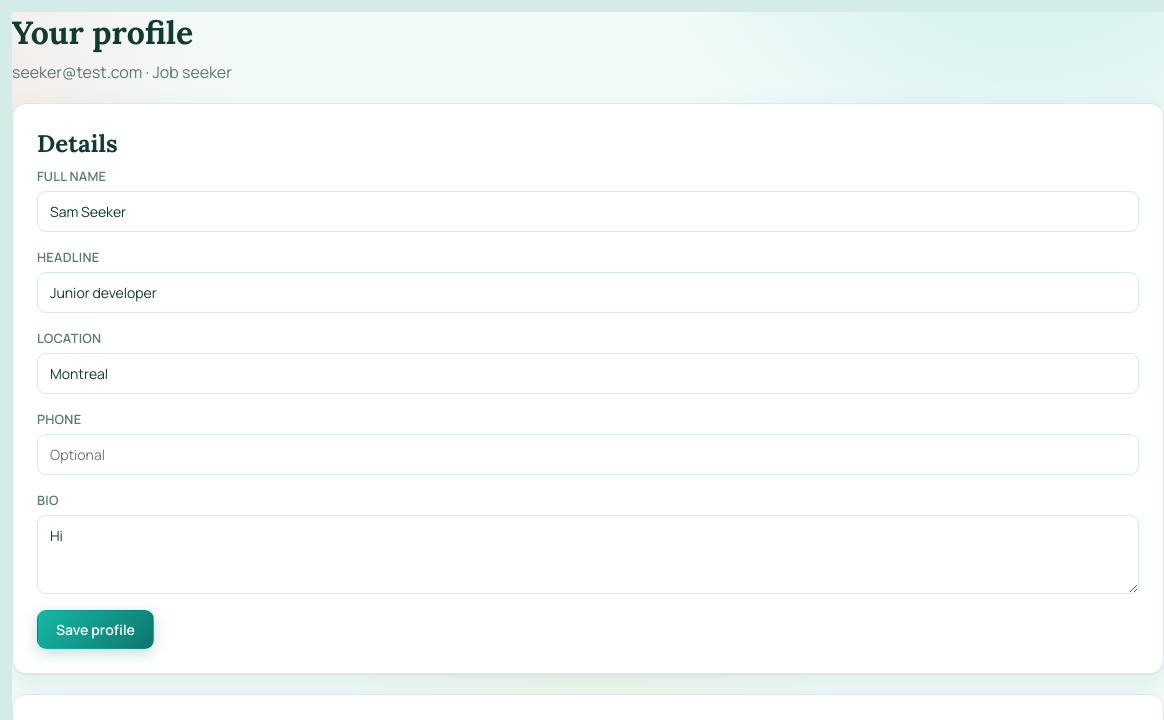
Test case: Profile details › saves the edited fields with PUT /profile and confirms
Replace the text in the field below "Headline" with "Frontend developer": {"x": 588, "y": 292} [37,272,1139,313]
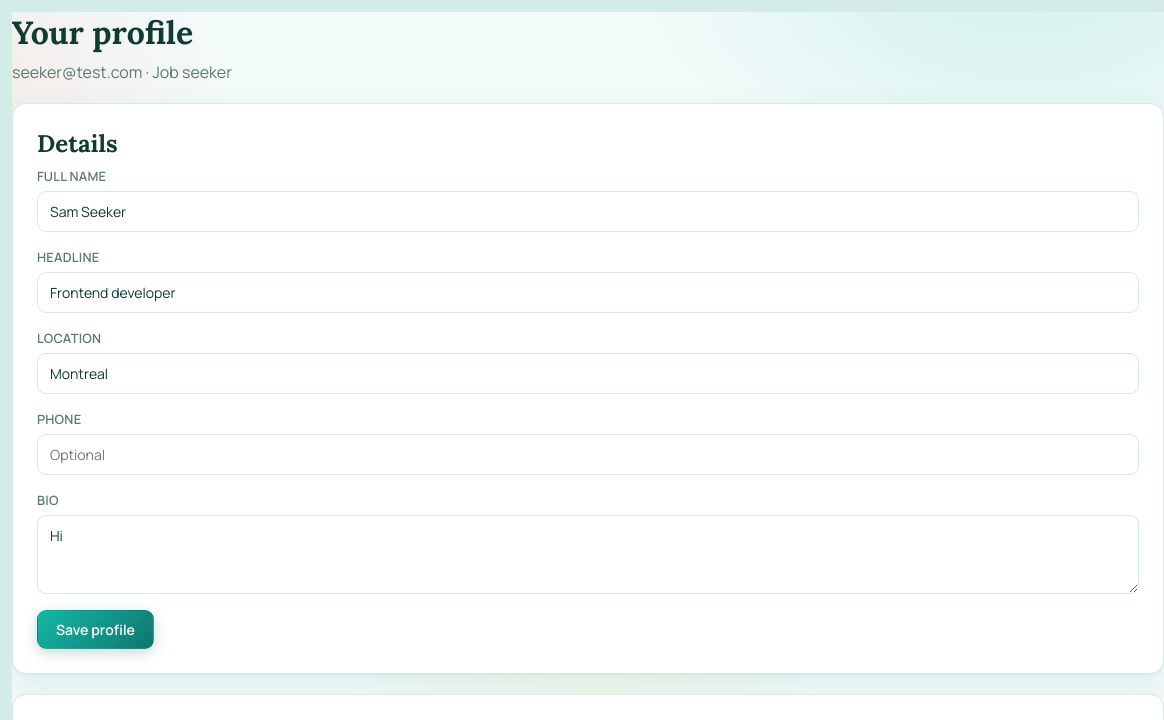
Submit the form
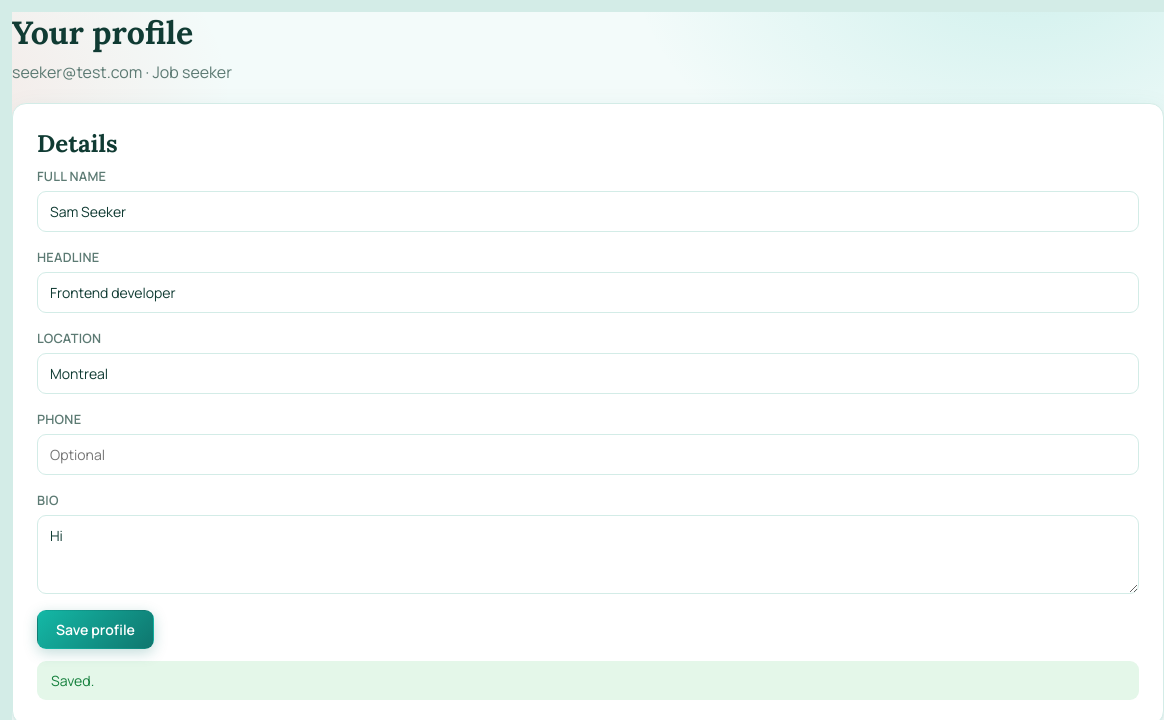
Result: the text "Saved." is shown at [37,661,1139,700]
